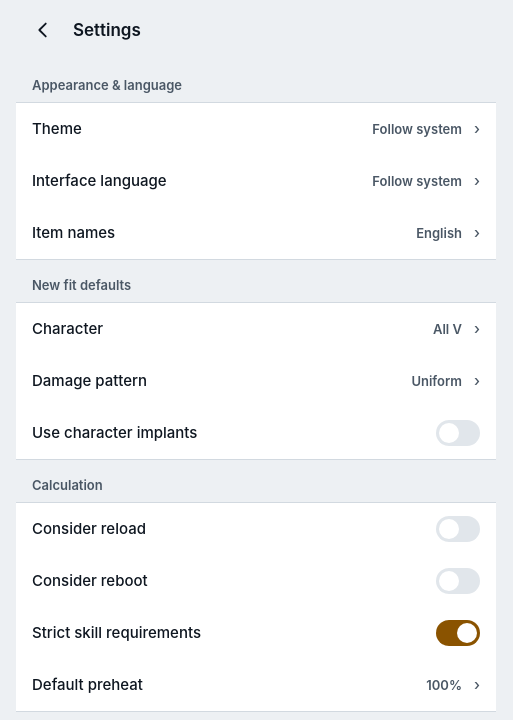
Scenario: C1 back entrance on settings, import and about › /settings goes to home when opened directly
The image size is (513, 720).
Click the button named "Back" at (43, 30), box [21,8,65,52]
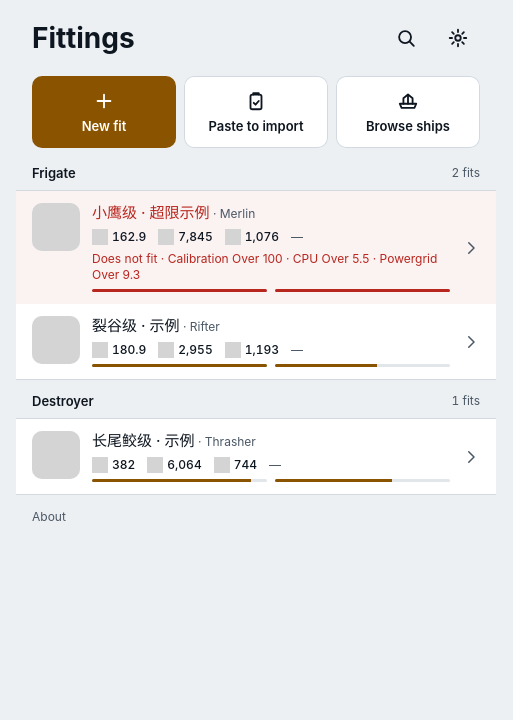
Now the heading "Fittings" is shown, box [32,21,135,55]
